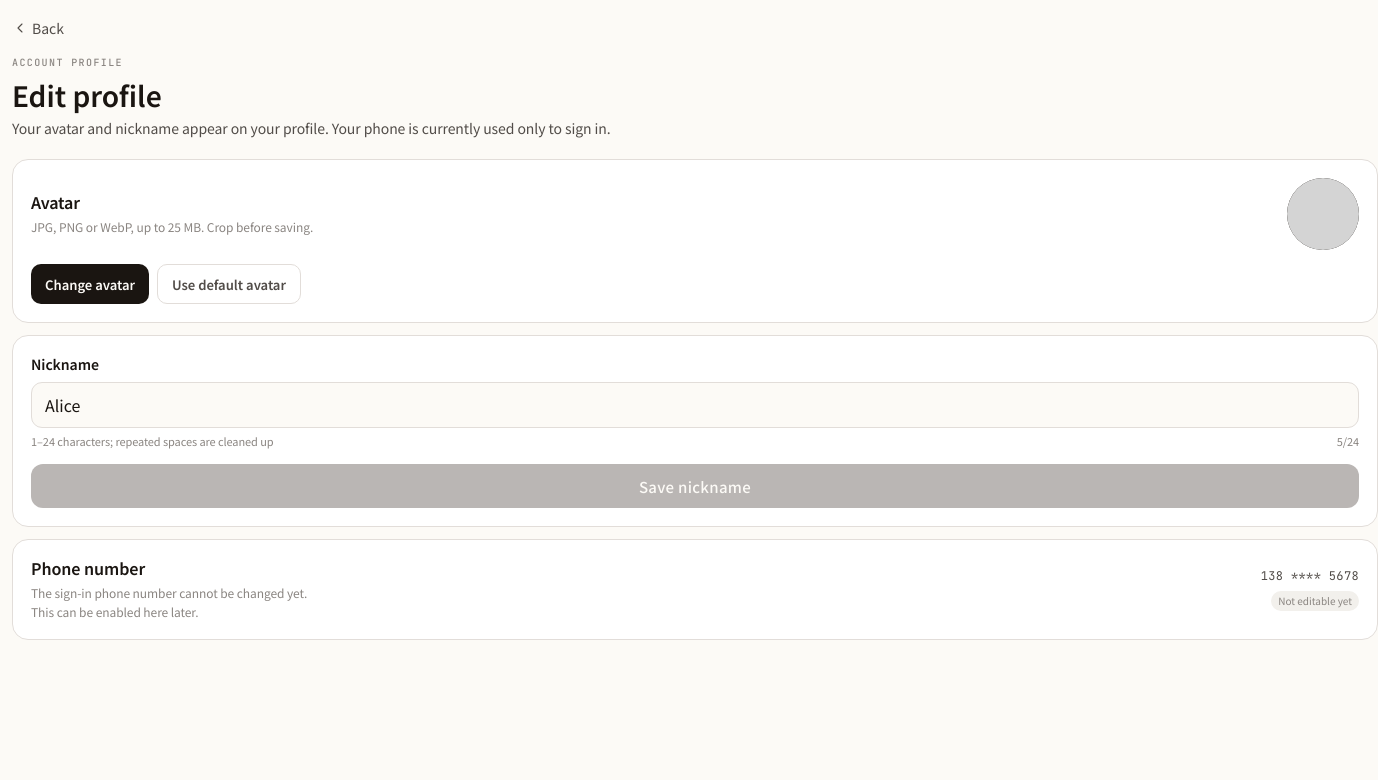
Test: EditProfilePage › restores the default avatar
Click the button "Use default avatar": (229,284) [157,264,301,304]
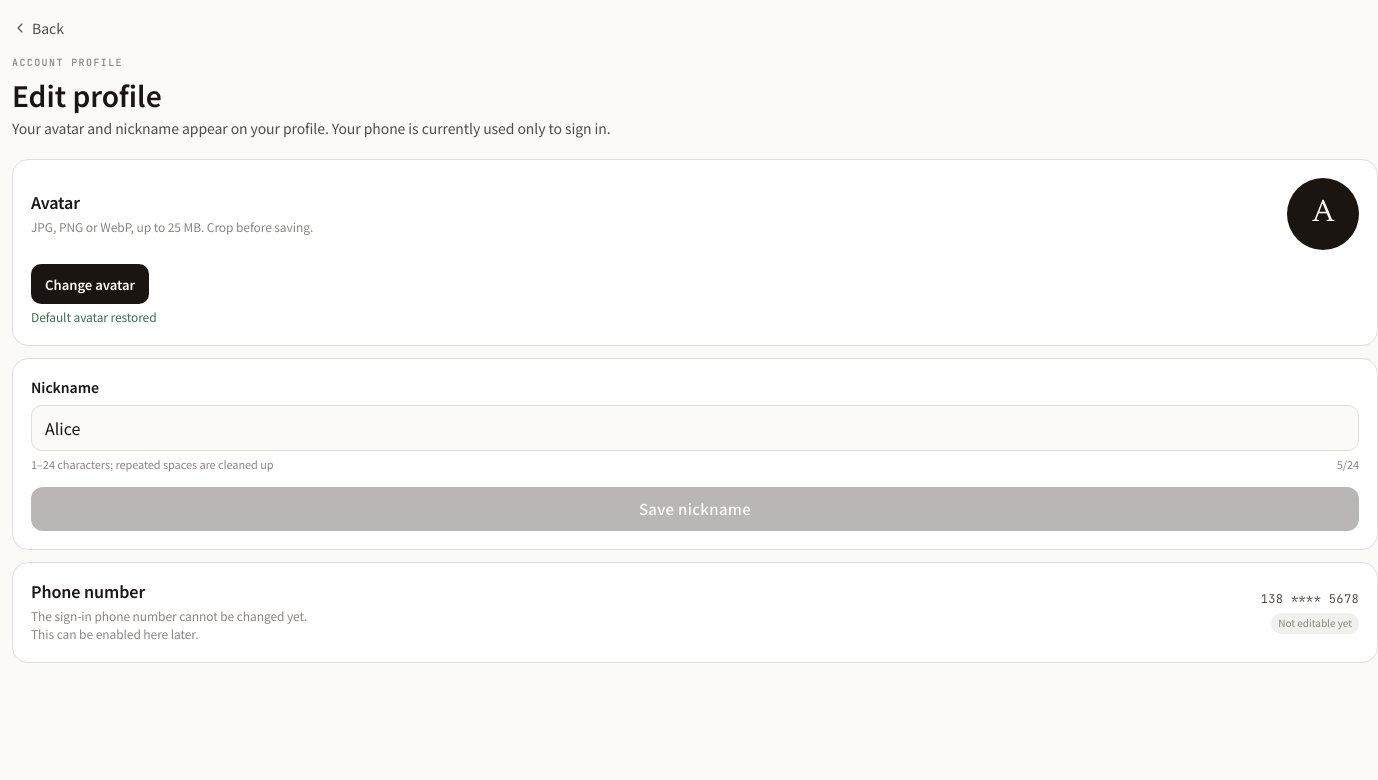
Now the picture is gone
Now the text "A" is shown, box [1312,192,1334,236]
